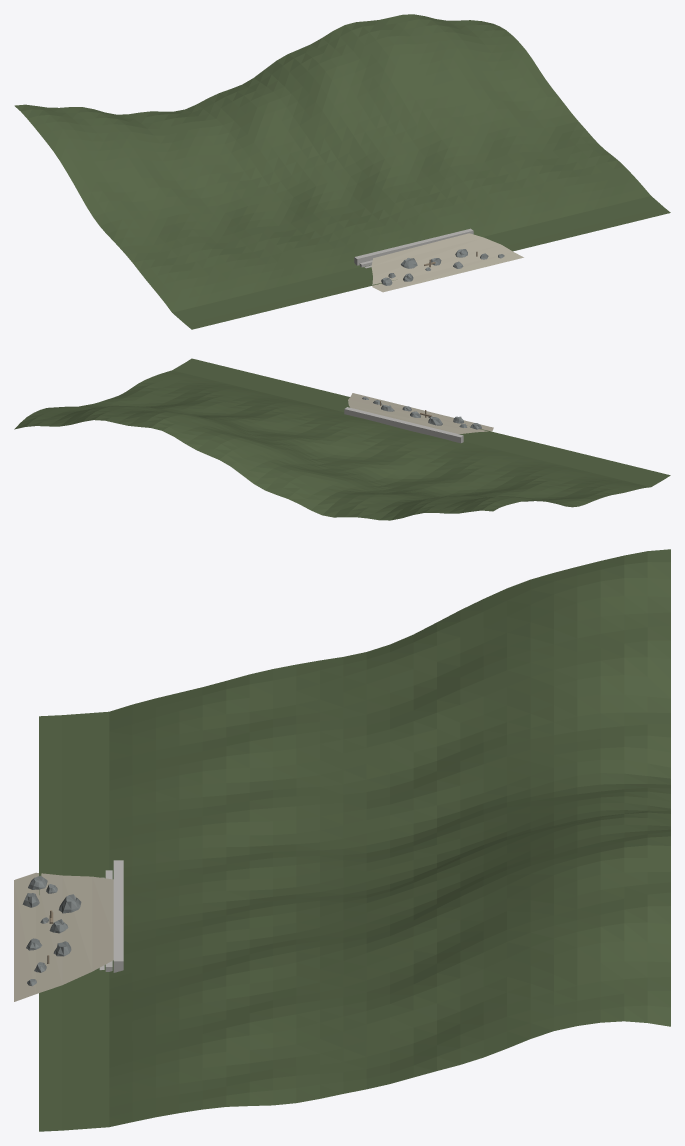
File: shoreline.gltf
3 renders of one model, top to bottom at view 1: azimuth 30°, elevation 25°; view 2: azimuth 150°, elevation 25°; view 3: azimuth 270°, elevation 25°, orthographic. The views are drawn at different scales.
Visible parts, largest first — view 1: shoreline-headland, shoreline-beach, shoreline-breakwater, shoreline-rocks; view 2: shoreline-headland, shoreline-beach, shoreline-breakwater, shoreline-rocks; view 3: shoreline-headland, shoreline-beach, shoreline-rocks, shoreline-breakwater.
Boxes of the visible parts, x1=… form: shoreline-headland: x1=14, y1=14, x2=670, y2=329; shoreline-beach: x1=371, y1=233, x2=523, y2=292; shoreline-breakwater: x1=354, y1=228, x2=473, y2=268; shoreline-rocks: x1=381, y1=249, x2=504, y2=285; shoreline-headland: x1=14, y1=358, x2=670, y2=520; shoreline-beach: x1=348, y1=393, x2=493, y2=433; shoreline-breakwater: x1=344, y1=407, x2=463, y2=443; shoreline-rocks: x1=362, y1=396, x2=481, y2=429; shoreline-headland: x1=39, y1=549, x2=670, y2=1131; shoreline-beach: x1=14, y1=872, x2=113, y2=1001; shoreline-rocks: x1=22, y1=875, x2=81, y2=986; shoreline-breakwater: x1=99, y1=860, x2=123, y2=972.
Bounding box in the file's own units: 63 × 12.49 × 42.1.
